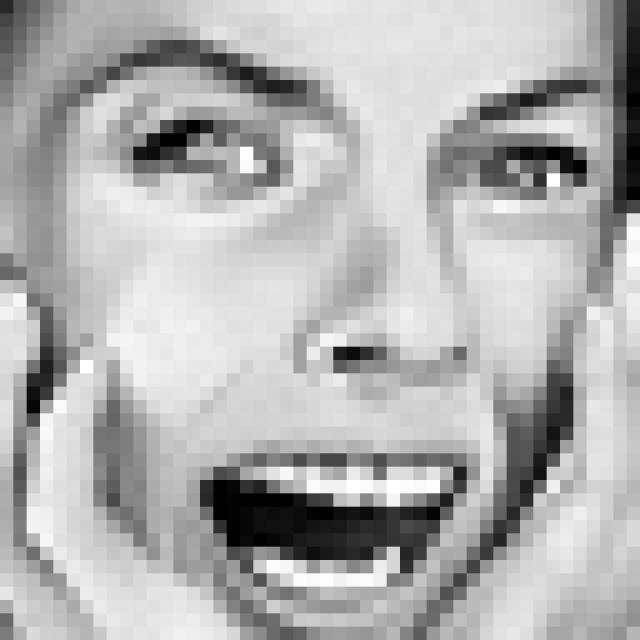fear: (52, 29, 613, 640)
